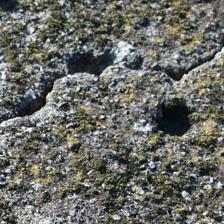Crack: (22, 143, 110, 213), (82, 75, 165, 114)
